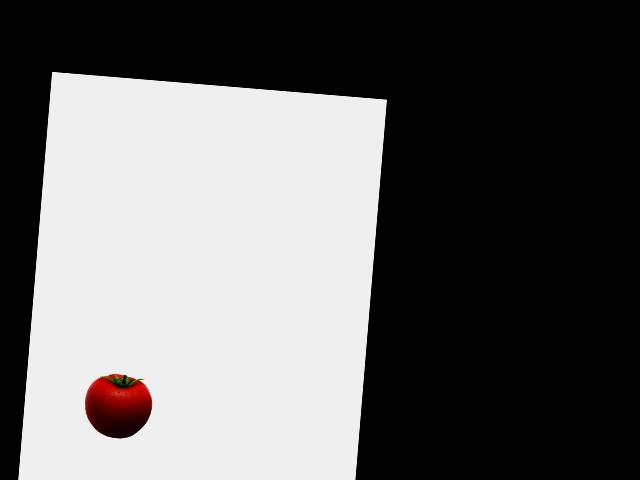tomato: (90, 372, 154, 440)
